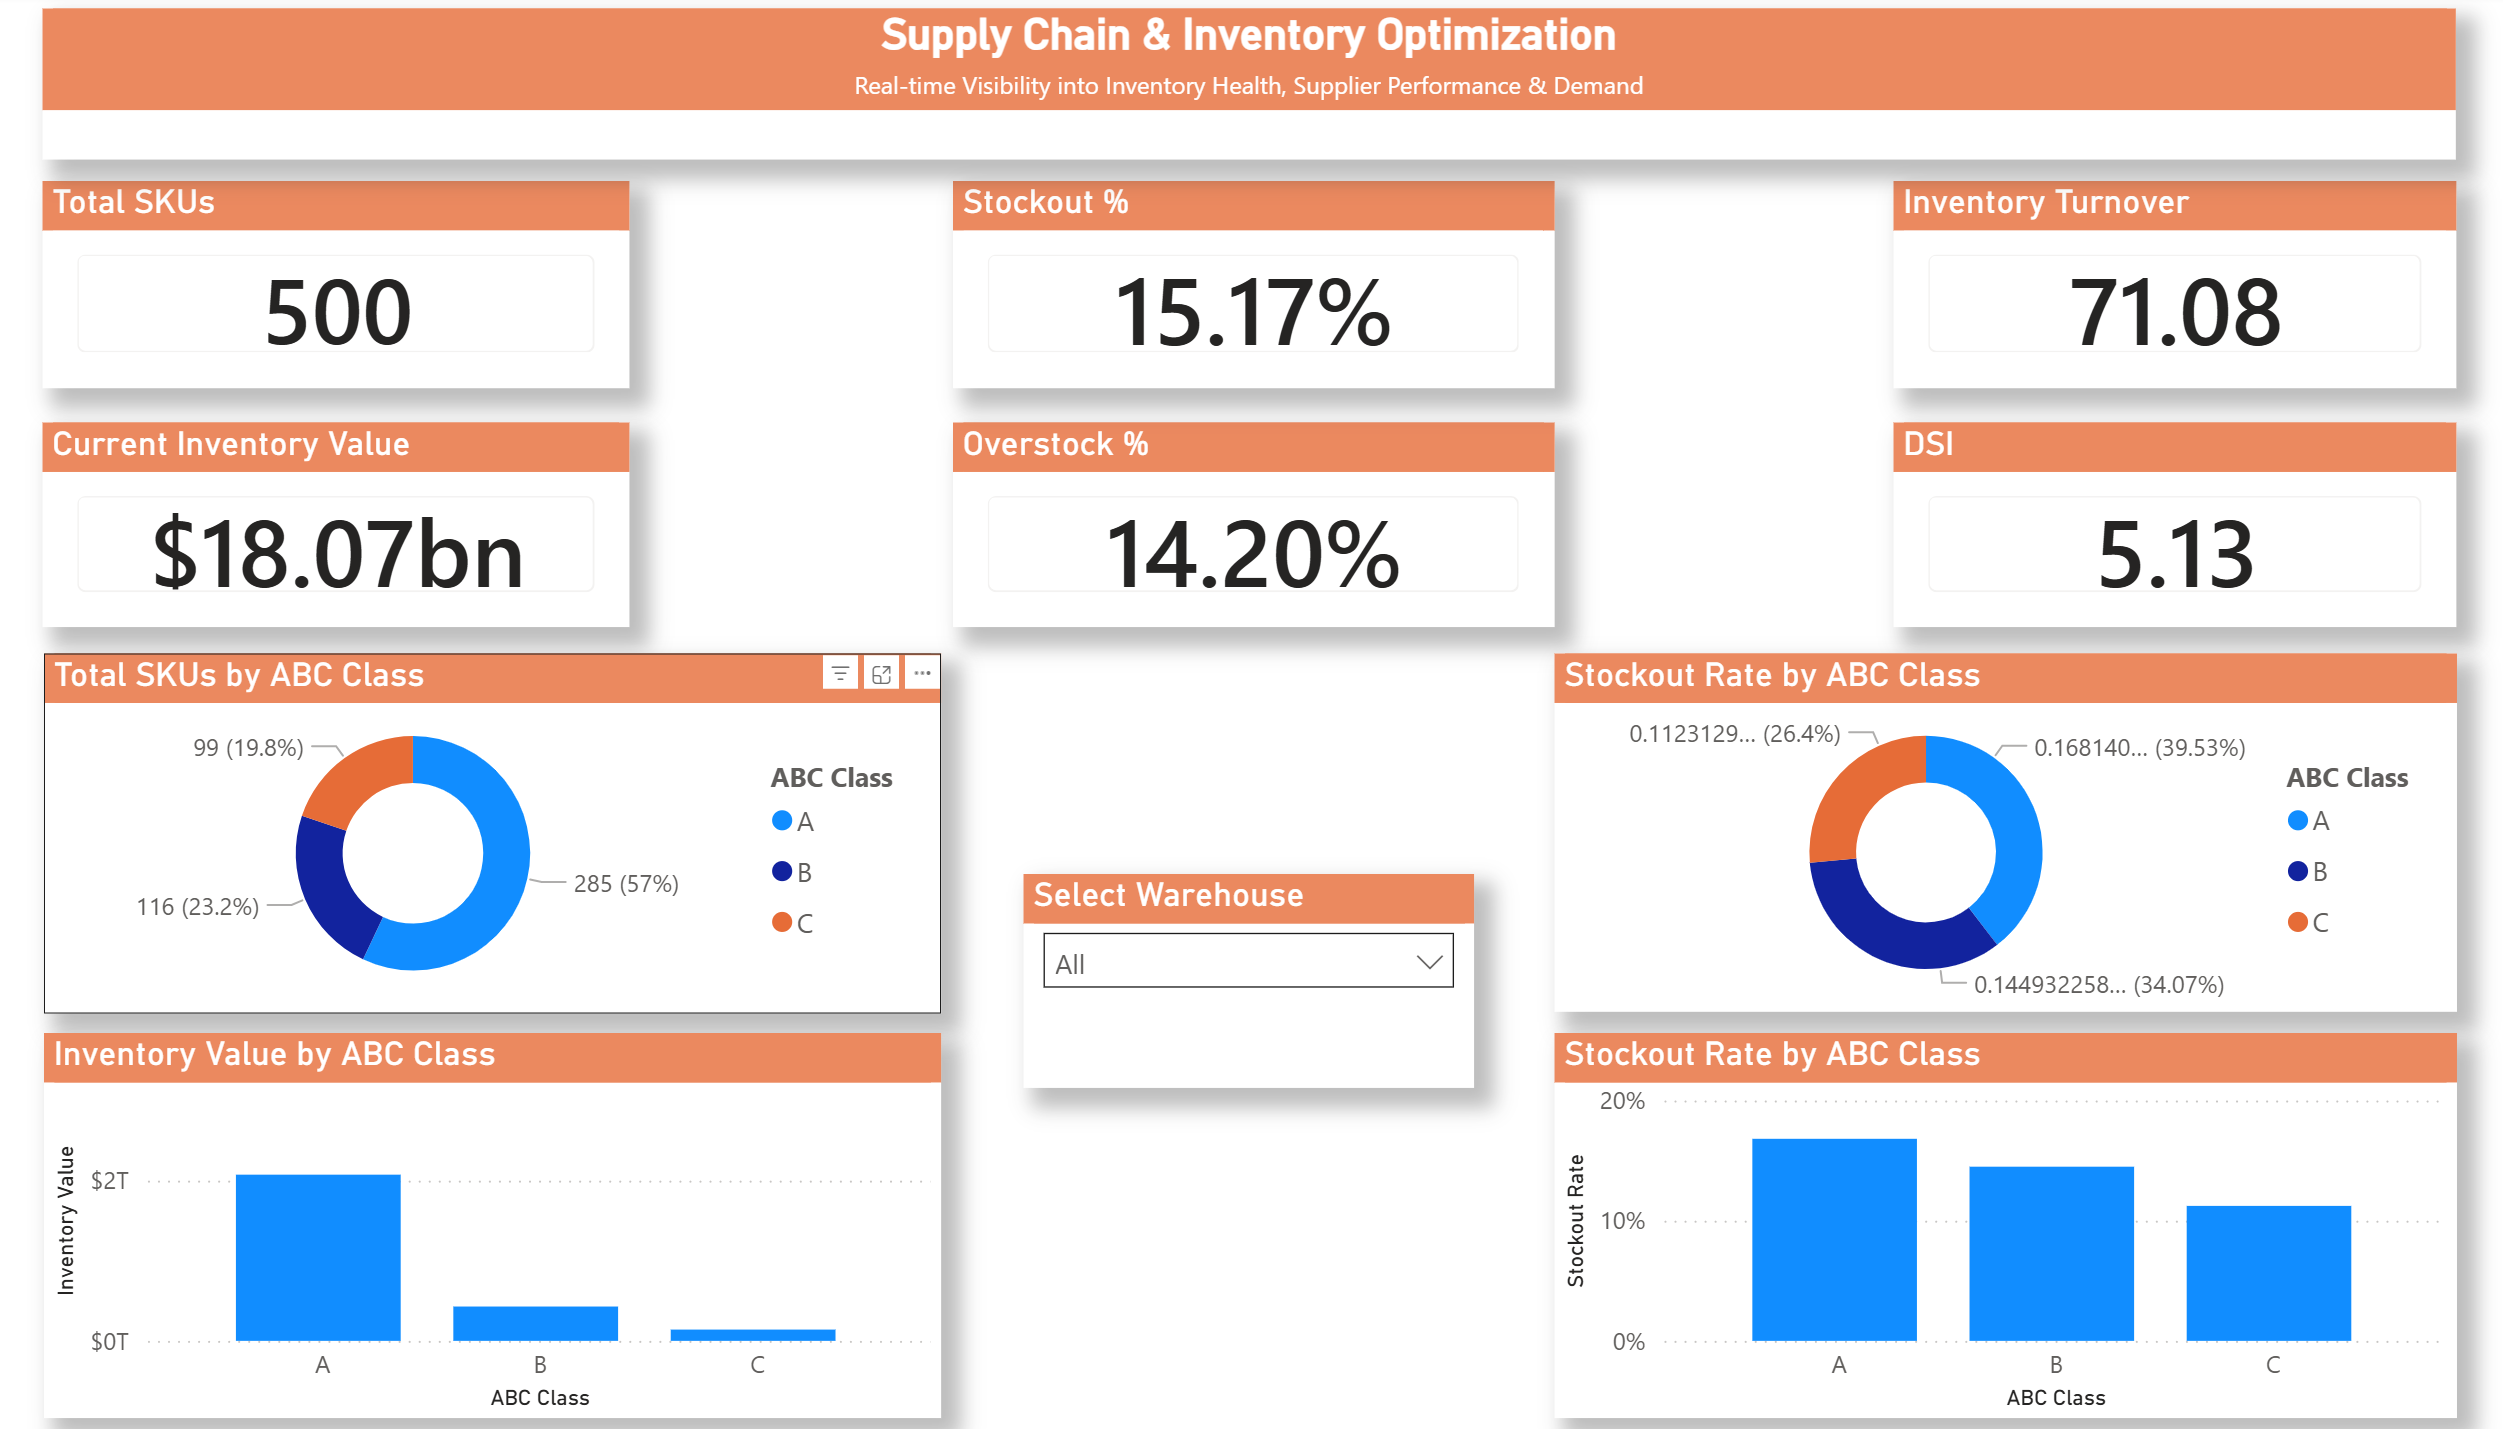

What the dashboard file says about the page in this screenshot:
{"tool":"powerbi","page":{"name":"Inventory Health Overview","canvas":[1280,720],"ordinal":0},"visuals":[{"type":"cardVisual","title":"Total SKUs","fields":{"Data":["Count(Products.SKU)"]},"box":[11.8,93.2,279.6,103],"z":0},{"type":"cardVisual","title":"Overstock %","fields":{"Data":["Inventory_Snapshots.Overstock %"]},"box":[468,213.9,299.2,102],"z":1000},{"type":"cardVisual","title":"Stockout %","fields":{"Data":["Inventory_Snapshots.Stockout %"]},"box":[468,93.2,299.2,103],"z":2000},{"type":"cardVisual","title":"Current Inventory Value","fields":{"Data":["Inventory_Snapshots.Current Inventory Value"]},"box":[11.8,213.9,279.6,102],"z":3000},{"type":"cardVisual","title":"Inventory Turnover","fields":{"Data":["Inventory_Snapshots.Inventory Turnover"]},"box":[946.8,93.2,293.3,103],"z":4000},{"type":"cardVisual","title":"DSI","fields":{"Data":["Inventory_Snapshots.Days Sales of Inventory"]},"box":[946.8,213.9,293.3,102],"z":5000},{"type":"donutChart","title":"Total SKUs by ABC Class","fields":{"Category":["Products.ABC_Class"],"Y":["Products.Total SKUs"]},"box":[11.8,328.7,442.5,178.6],"z":6000},{"type":"columnChart","title":"Inventory Value by ABC Class","fields":{"Category":["Products.ABC_Class"],"Y":["Products.Inventory Value by ABC"]},"box":[11.8,518,442.5,192.3],"z":7000},{"type":"donutChart","title":"Stockout Rate  by ABC Class","fields":{"Y":["Inventory_Snapshots.Stockout Rate by ABC"],"Category":["Products.ABC_Class"]},"box":[782.9,328.7,457.2,177.6],"z":8000},{"type":"columnChart","title":"Stockout Rate by ABC Class","fields":{"Category":["Products.ABC_Class"],"Y":["Inventory_Snapshots.Stockout Rate by ABC"]},"box":[776.1,518,464.1,192.3],"z":9000},{"type":"textbox","title":"Supply Chain & Inventory Optimization","box":[151.6,8.5,1090.3,66.4],"z":10000},{"type":"slicer","title":"Select Warehouse","fields":{"Values":["Warehouses.WarehouseName"]},"box":[525.8,434.5,196,107],"z":11000},{"type":"actionButton","title":"Overview","box":[11.8,8.8,111.8,38.3],"z":12000}]}

Visuals, with their boxes in screenshot pixels (x1, y1, x2, y2), scaled from the page's 1280x720 canvas onto the 2503x1429 screenshot:
"Total SKUs" cardVisual: <bbox>23, 185, 570, 389</bbox>
"Overstock %" cardVisual: <bbox>915, 425, 1500, 627</bbox>
"Stockout %" cardVisual: <bbox>915, 185, 1500, 389</bbox>
"Current Inventory Value" cardVisual: <bbox>23, 425, 570, 627</bbox>
"Inventory Turnover" cardVisual: <bbox>1851, 185, 2425, 389</bbox>
"DSI" cardVisual: <bbox>1851, 425, 2425, 627</bbox>
"Total SKUs by ABC Class" donutChart: <bbox>23, 652, 888, 1007</bbox>
"Inventory Value by ABC Class" columnChart: <bbox>23, 1028, 888, 1410</bbox>
"Stockout Rate  by ABC Class" donutChart: <bbox>1531, 652, 2425, 1005</bbox>
"Stockout Rate by ABC Class" columnChart: <bbox>1518, 1028, 2425, 1410</bbox>
"Supply Chain & Inventory Optimization" textbox: <bbox>296, 17, 2428, 149</bbox>
"Select Warehouse" slicer: <bbox>1028, 862, 1411, 1075</bbox>
"Overview" actionButton: <bbox>23, 17, 242, 93</bbox>
